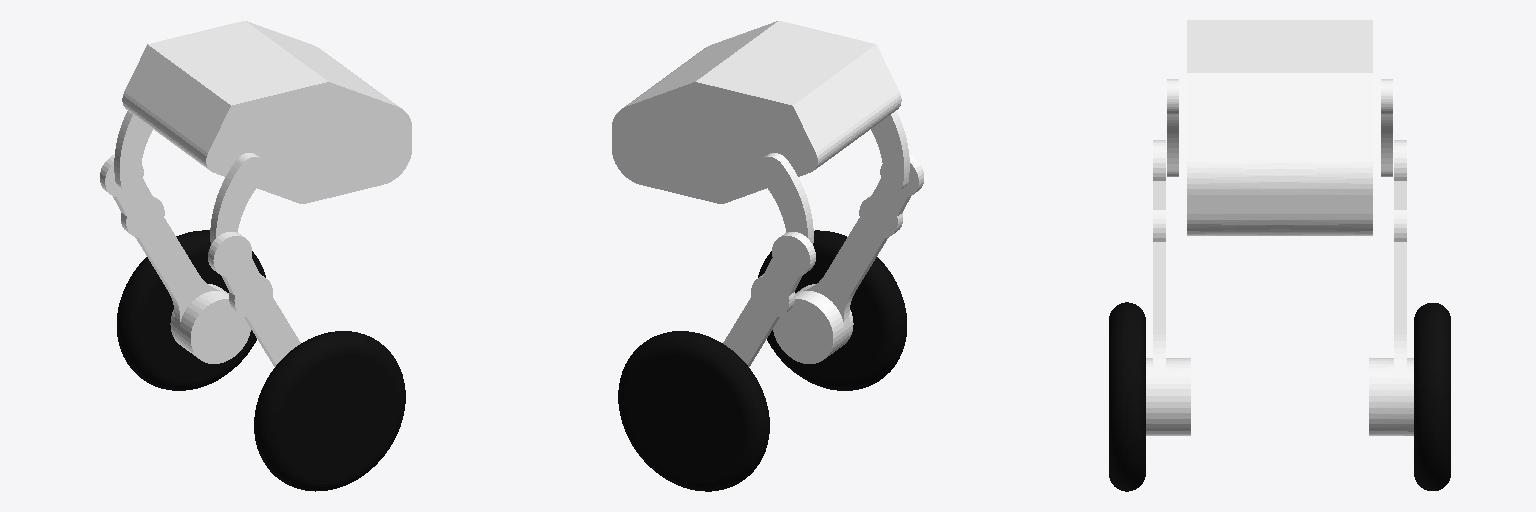
The robot description file, URDF, robot "wheel_biped_robot":
<?xml version="1.0" ?>
<robot name="wheel_biped_robot">

  <gazebo>
    <static>false</static>
  </gazebo>
<!--
  <link name="base_footprint">
    <inertial>
      <mass value="0.001"/>
      <origin rpy="0 0 0" xyz="0 0 0"/>
      <inertia ixx="0.0001" ixy="0" ixz="0" iyy="0.0001" iyz="0" izz="0.0001"/>
    </inertial>
  </link>

  <joint name="base_joint" type="fixed">
    <parent link="base_footprint"/>
    <child link="base_link"/>
    <origin rpy="0 0 0" xyz="0 0 0.5"/>
 </joint>
-->
  <link name="base_link">
    <visual>
      <geometry>
        <mesh filename="package://twl_sim/modeling/meshes/stl/MainBody_Collision.stl"/>
      </geometry>
      <material name="white">
        <color rgba="1 1 1 1"/>
      </material>
    </visual>
    <collision>
      <geometry>
        <mesh filename="package://twl_sim/modeling/meshes/stl/MainBody_Collision.stl"/>
      </geometry>
    </collision>
    <inertial>
      <mass value="1.41404421338"/>
      <origin rpy="0 0 0" xyz="0.01819659659 -0.00024888409 0.03542269696"/>
      <inertia ixx="0.004191453724966" ixy="0.000019611026617" ixz="0.000183001274225" iyy="0.006619178754250" iyz="0.000006399950187" izz="0.007735669494723"/>
    </inertial>
  </link>

  <link name="RightActiveThigh_link">
    <visual>
      <geometry>
        <mesh filename="package://twl_sim/modeling/meshes/stl/ThighLink_Active_Right_Collision.stl"/>
      </geometry>
      <material name="white"/>
    </visual>
    <collision>
      <geometry>
        <mesh filename="package://twl_sim/modeling/meshes/stl/ThighLink_Active_Right_Collision.stl"/>
      </geometry>
    </collision>
    <inertial>
      <mass value="0.04241994494"/>
      <origin rpy="0 0 0" xyz="-0.04846902377 -0.00461143086 0.00204281842"/>
      <inertia ixx="0.0000050068969963" ixy="-0.00000644424742526" ixz="-0.00000084635096499" iyy="0.00004884985593152" iyz="-0.0000004043837437" izz="0.00004992941023364"/>
    </inertial>
  </link>

  <link name="RightCalf_link">
    <visual>
      <geometry>
        <mesh filename="package://twl_sim/modeling/meshes/stl/Calf_Link_Right_Collision.stl"/>
      </geometry>
      <material name="white"/>
    </visual>
    <collision>
      <geometry>
        <mesh filename="package://twl_sim/modeling/meshes/stl/Calf_Link_Right_Collision.stl"/>
      </geometry>
    </collision>
    <inertial>
      <mass value="0.33823782393"/>
      <origin rpy="0 0 0" xyz="0.16971091698 0.00392574726 0.00713537305"/>
      <inertia ixx="0.000108187868306" ixy="0.00000568913762061" ixz="-0.0000343484358461" iyy="0.00084962131645905" iyz="0.00000026626892472" izz="0.00082031486080829"/>
    </inertial>
  </link>

  <link name="RightWheel_link">
    <visual>
      <geometry>
        <mesh filename="package://twl_sim/modeling/meshes/stl/Wheel_Right_Collision.stl"/>
      </geometry>
      <material name="black">
        <color rgba="0.1 0.1 0.1 1"/>
      </material>
    </visual>
    <collision>
      <geometry>
        <mesh filename="package://twl_sim/modeling/meshes/stl/Wheel_Right_Collision.stl"/>
      </geometry>
    </collision>
    <inertial>
      <mass value="0.21411770281"/>
      <origin rpy="0 0 0" xyz="-0.00000761 0.48438625 -0.00000031"/>
      <inertia ixx="0.00033410460295742" ixy="-0.000000000692262" ixz="-0.00000000004512" iyy="0.00064074279507983" iyz="0.000000000005987" izz="0.00033410465585037"/>
    </inertial>
  </link>
<!--
  <link name="RightPassiveThigh_link">
    <visual>
      <geometry>
        <mesh filename="package://twl_sim/modeling/meshes/stl/ThighLink_Passive_Right_Collision.stl"/>
      </geometry>
    </visual>
    <collision>
      <geometry>
        <mesh filename="package://twl_sim/modeling/meshes/stl/ThighLink_Passive_Right_Collision.stl"/>
      </geometry>
    </collision>
    <inertial>
      <mass value="0.03926139565"/>
      <origin rpy="0 0 0" xyz="-0.07721916722 -0.01027201342 -0.00386042407"/>
      <inertia ixx="0.000005253535542220" ixy="-0.000005957246863360" ixz="0.000002247315833890" iyy="0.000060185494515380" iyz="0.000000799056070920" izz="0.000060398225116460"/>
    </inertial>
  </link>
-->
  <link name="LeftActiveThigh_link">
    <visual>
      <geometry>
        <mesh filename="package://twl_sim/modeling/meshes/stl/ThighLink_Active_Left_Collision.stl"/>
      </geometry>
      <material name="white"/>
    </visual>
    <collision>
      <geometry>
        <mesh filename="package://twl_sim/modeling/meshes/stl/ThighLink_Active_Left_Collision.stl"/>
      </geometry>
    </collision>
    <inertial>
      <mass value="0.04241994494"/>
      <origin rpy="0 0 0" xyz="-0.04846903323 0.00461143087 0.00204282631"/>
      <inertia ixx="0.00000500689568398" ixy="0.00000644424555368" ixz="-0.00000084635023128" iyy="0.00004884983835373" iyz="0.00000040438523501" izz="0.00004992939396428"/>
    </inertial>
  </link>

  <link name="LeftCalf_link">
    <visual>
      <geometry>
        <mesh filename="package://twl_sim/modeling/meshes/stl/Calf_Link_Left_Collision.stl"/>
      </geometry>
      <material name="white"/>
    </visual>
    <collision>
      <geometry>
        <mesh filename="package://twl_sim/modeling/meshes/stl/Calf_Link_Left_Collision.stl"/>
      </geometry>
    </collision>
    <inertial>
      <mass value="0.33823782393"/>
      <origin rpy="0 0 0" xyz="0.1697107318 -0.00392577446 0.00713663078"/>
      <inertia ixx="0.0001081875337499" ixy="-0.00000568874489609" ixz="-0.0000343493986893" iyy="0.00084962461514512" iyz="-0.00000027220346797" izz="0.00082031828517488"/>
    </inertial>
  </link>

  <link name="LeftWheel_link">
    <visual>
      <geometry>
        <mesh filename="package://twl_sim/modeling/meshes/stl/Wheel_Left_Collision.stl"/>
      </geometry>
      <material name="black"/>
    </visual>
    <collision>
      <geometry>
        <mesh filename="package://twl_sim/modeling/meshes/stl/Wheel_Left_Collision.stl"/>
      </geometry>
    </collision>
    <inertial>
      <mass value="0.23711770281"/>
      <origin rpy="0 0 0" xyz="-0.00000687 0.43740164 -0.00000028"/>
      <inertia ixx="0.00037716950236306" ixy="-0.000000000684531" ixz="-0.000000000114686" iyy="0.00072399902807526" iyz="0.000000000006205" izz="0.000377169522061"/>
    </inertial>
  </link>
<!--  
  <link name="LeftPassiveThigh_link">
    <visual>
      <geometry>
        <mesh filename="package://twl_sim/modeling/meshes/stl/ThighLink_Passive_Left_Collision.stl"/>
      </geometry>
    </visual>
    <collision>
      <geometry>
        <mesh filename="package://twl_sim/modeling/meshes/stl/ThighLink_Passive_Left_Collision.stl"/>
      </geometry>
    </collision>
    <inertial>
      <mass value="0.03926139565"/>
      <origin rpy="0 0 0" xyz="-0.07721916722 -0.01027201342 -0.00386042407"/>
      <inertia ixx="0.000005253535542220" ixy="-0.000005957246863360" ixz="0.000002247315833890" iyy="0.000060185494515380" iyz="-0.000000799056070920" izz="0.000060398225116460"/>
    </inertial>
  </link>
-->
  <link name="imu_link">
    <visual>
      <geometry>
        <box size="0.01 0.01 0.01"/>
      </geometry>
      <material name="orange">
        <color rgba="1.0 0.5 0.0 1.0"/>
      </material>
    </visual>
    <collision>
      <geometry>
        <box size="0.01 0.01 0.01"/>
      </geometry>
    </collision>
    <inertial>
      <mass value="0.01"/>
      <inertia ixx="1.66e-6" ixy="0" ixz="0" iyy="1.66e-6" iyz="0" izz="1.66e-6"/>
    </inertial>
  </link>

  <joint name="Base_RightActiveThigh" type="revolute">
    <parent link="base_link"/>
    <child link="RightActiveThigh_link"/>
    <origin rpy="0 -1.221206878 0" xyz="-0.064952 -0.086 0.0375"/>
    <axis xyz="0 1 0"/>
    <limit effort="100" lower="-1.57" upper="1.57" velocity="10"/>
  </joint>

  <joint name="RightActiveThigh_RightCalf" type="revolute">
    <parent link="RightActiveThigh_link"/>
    <child link="RightCalf_link"/>
    <origin rpy="0 2.343715386 0" xyz="-0.077 -0.016 0.00"/>
    <axis xyz="0 1 0"/>
    <limit effort="100" lower="-2.0" upper="1.57" velocity="10"/>
    <mimic joint="Base_RightActiveThigh" multiplier="-1.2" offset="0.0"/>
  </joint>

  <joint name="RightCalf_RightWheel" type="continuous">
    <parent link="RightCalf_link"/> 
    <child link="RightWheel_link"/>
    <origin rpy="0 0 0" xyz="0.187 -0.021 0.008"/>
    <axis xyz="0 1 0"/>
  </joint>
<!--
  <joint name="Base_RightPassiveThigh" type="revolute">
    <parent link="base_link"/>
    <child link="RightPassiveThigh_link"/>
    <origin rpy="0 -0.8538150701 0" xyz="0.0 -0.081 0.0"/>
    <axis xyz="0 1 0"/>
    <limit effort="100" lower="-1.57" upper="1.57" velocity="10"/>
  </joint>
-->
  <joint name="Base_LeftActiveThigh" type="revolute">
    <parent link="base_link"/>
    <child link="LeftActiveThigh_link"/>
    <origin rpy="0 -1.221206878 0" xyz="-0.064952 0.086 0.0375"/>
    <axis xyz="0 1 0"/>
    <limit effort="100" lower="-1.57" upper="1.57" velocity="10"/>
  </joint>

  <joint name="LeftActiveThigh_LeftCalf" type="revolute">
    <parent link="LeftActiveThigh_link"/>
    <child link="LeftCalf_link"/>
    <origin rpy="0 2.343715386 0" xyz="-0.077 0.016 0.00"/>
    <axis xyz="0 1 0"/>
    <limit effort="100" lower="-2.0" upper="1.57" velocity="10"/>
    <mimic joint="Base_LeftActiveThigh" multiplier="-1.2" offset="0.0"/>
  </joint>

  <joint name="LeftCalf_LeftWheel" type="continuous">
    <parent link="LeftCalf_link"/>
    <child link="LeftWheel_link"/>
    <origin rpy="0 0 0" xyz="0.187 0.021 0.008"/>
    <axis xyz="0 1 0"/>
  </joint>
<!--
  <joint name="Base_LeftPassiveThigh" type="revolute">
    <parent link="base_link"/>
    <child link="LeftPassiveThigh_link"/>
    <origin rpy="0 -0.8538150701 0" xyz="0.0 0.081 0.0"/>
    <axis xyz="0 1 0"/>
    <limit effort="100" lower="-1.2212" upper="0.518" velocity="10"/>
  </joint>
-->
  <joint name="Base_IMU" type="fixed">
    <parent link="base_link"/>
    <child link="imu_link"/>
    <origin rpy="0 0 0" xyz="0 0 0"/>
  </joint>

</robot>

--- Facts derived from the render (not from the file) ---
Views: 3 orthographic renders of the robot side by side, from view 1: azimuth 30°, elevation 25°; view 2: azimuth 150°, elevation 25°; view 3: azimuth 270°, elevation 25°.
Robot: wheel_biped_robot — 8 links, 7 joints (4 revolute, 2 continuous, 1 fixed); root link base_link; default pose: every joint at zero.
Links seen in each view (by area): view 1: base_link, RightWheel_link, LeftCalf_link, LeftWheel_link, RightCalf_link, RightActiveThigh_link, LeftActiveThigh_link; view 2: base_link, LeftWheel_link, RightCalf_link, RightWheel_link, LeftCalf_link, LeftActiveThigh_link, RightActiveThigh_link; view 3: base_link, RightWheel_link, LeftWheel_link, RightCalf_link, LeftCalf_link, RightActiveThigh_link, LeftActiveThigh_link.
Link boxes in pixels (x1=…): base_link: x1=122, y1=21, x2=411, y2=203; RightWheel_link: x1=254, y1=331, x2=405, y2=491; LeftCalf_link: x1=100, y1=154, x2=250, y2=363; LeftWheel_link: x1=117, y1=230, x2=265, y2=390; RightCalf_link: x1=208, y1=232, x2=300, y2=366; RightActiveThigh_link: x1=210, y1=153, x2=266, y2=243; LeftActiveThigh_link: x1=114, y1=111, x2=152, y2=191; base_link: x1=612, y1=21, x2=901, y2=203; LeftWheel_link: x1=618, y1=331, x2=769, y2=491; RightCalf_link: x1=773, y1=154, x2=923, y2=363; RightWheel_link: x1=758, y1=230, x2=906, y2=390; LeftCalf_link: x1=723, y1=232, x2=815, y2=366; LeftActiveThigh_link: x1=757, y1=153, x2=813, y2=243; RightActiveThigh_link: x1=871, y1=111, x2=909, y2=191; base_link: x1=1187, y1=20, x2=1372, y2=235; RightWheel_link: x1=1109, y1=302, x2=1145, y2=491; LeftWheel_link: x1=1414, y1=303, x2=1450, y2=490; RightCalf_link: x1=1146, y1=140, x2=1190, y2=435; LeftCalf_link: x1=1369, y1=140, x2=1413, y2=435; RightActiveThigh_link: x1=1167, y1=79, x2=1178, y2=176; LeftActiveThigh_link: x1=1381, y1=79, x2=1392, y2=176.
Bounding box of the posed robot: 0.2213 × 0.276 × 0.376 m (x, y, z).
7 mesh visuals loaded from 7 distinct referenced files (7 binary STL).
